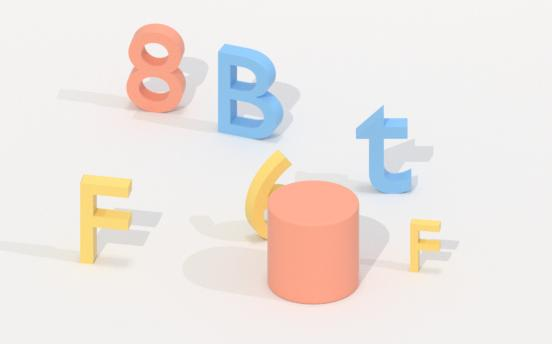6: (238, 147, 302, 242)
8: (127, 21, 188, 125)
F: (76, 168, 138, 275), (406, 215, 447, 282)
b: (214, 38, 286, 145)
t: (356, 103, 419, 197)
tru: (262, 180, 366, 309)
